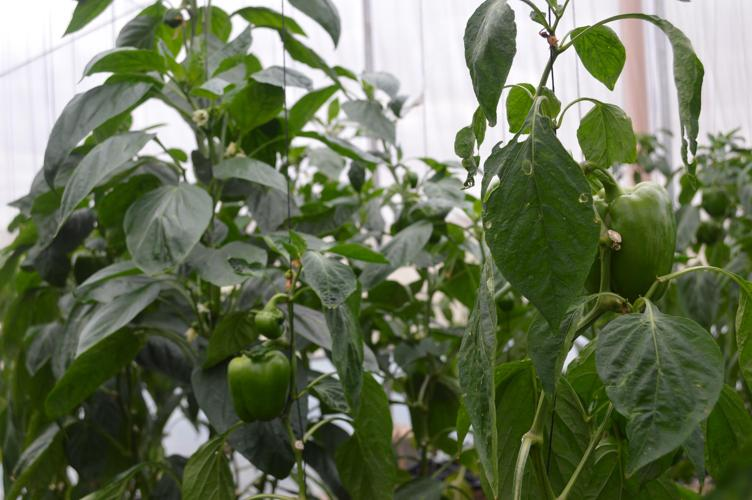BellPepper: (591, 181, 678, 306), (225, 351, 292, 416)
